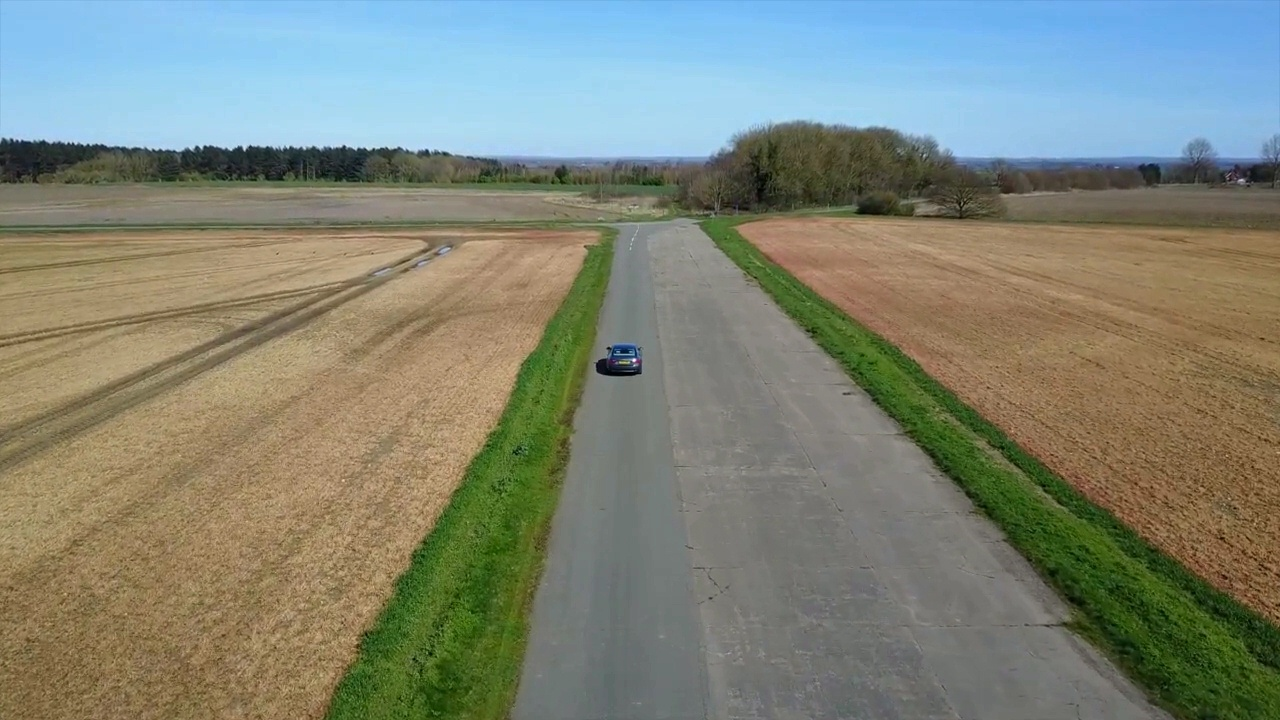araba: (603, 343, 647, 371)
